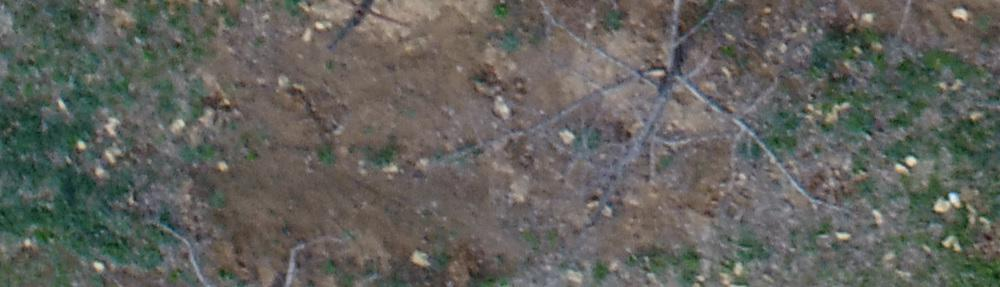apple: (494, 10, 825, 219)
